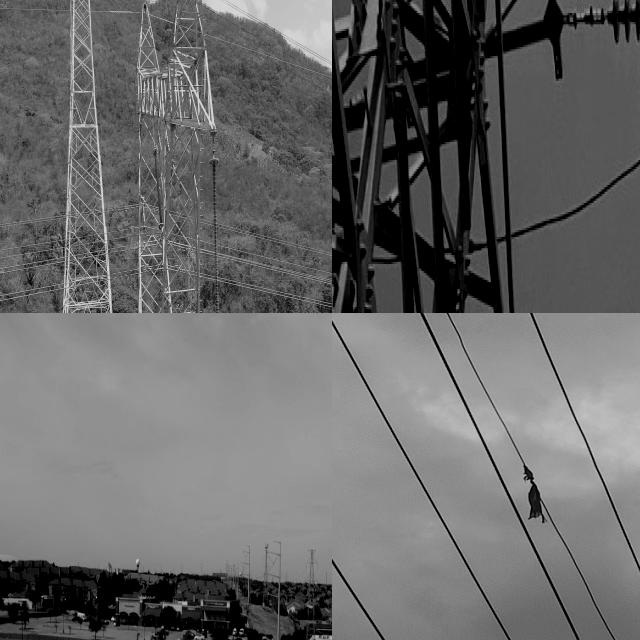杆塔: (332, 0, 573, 313), (130, 0, 199, 313), (51, 0, 119, 313), (304, 545, 318, 640), (260, 541, 270, 609)
植被遮挡: (515, 459, 551, 531)
正常绝缘子: (208, 143, 225, 313), (151, 148, 165, 230)
